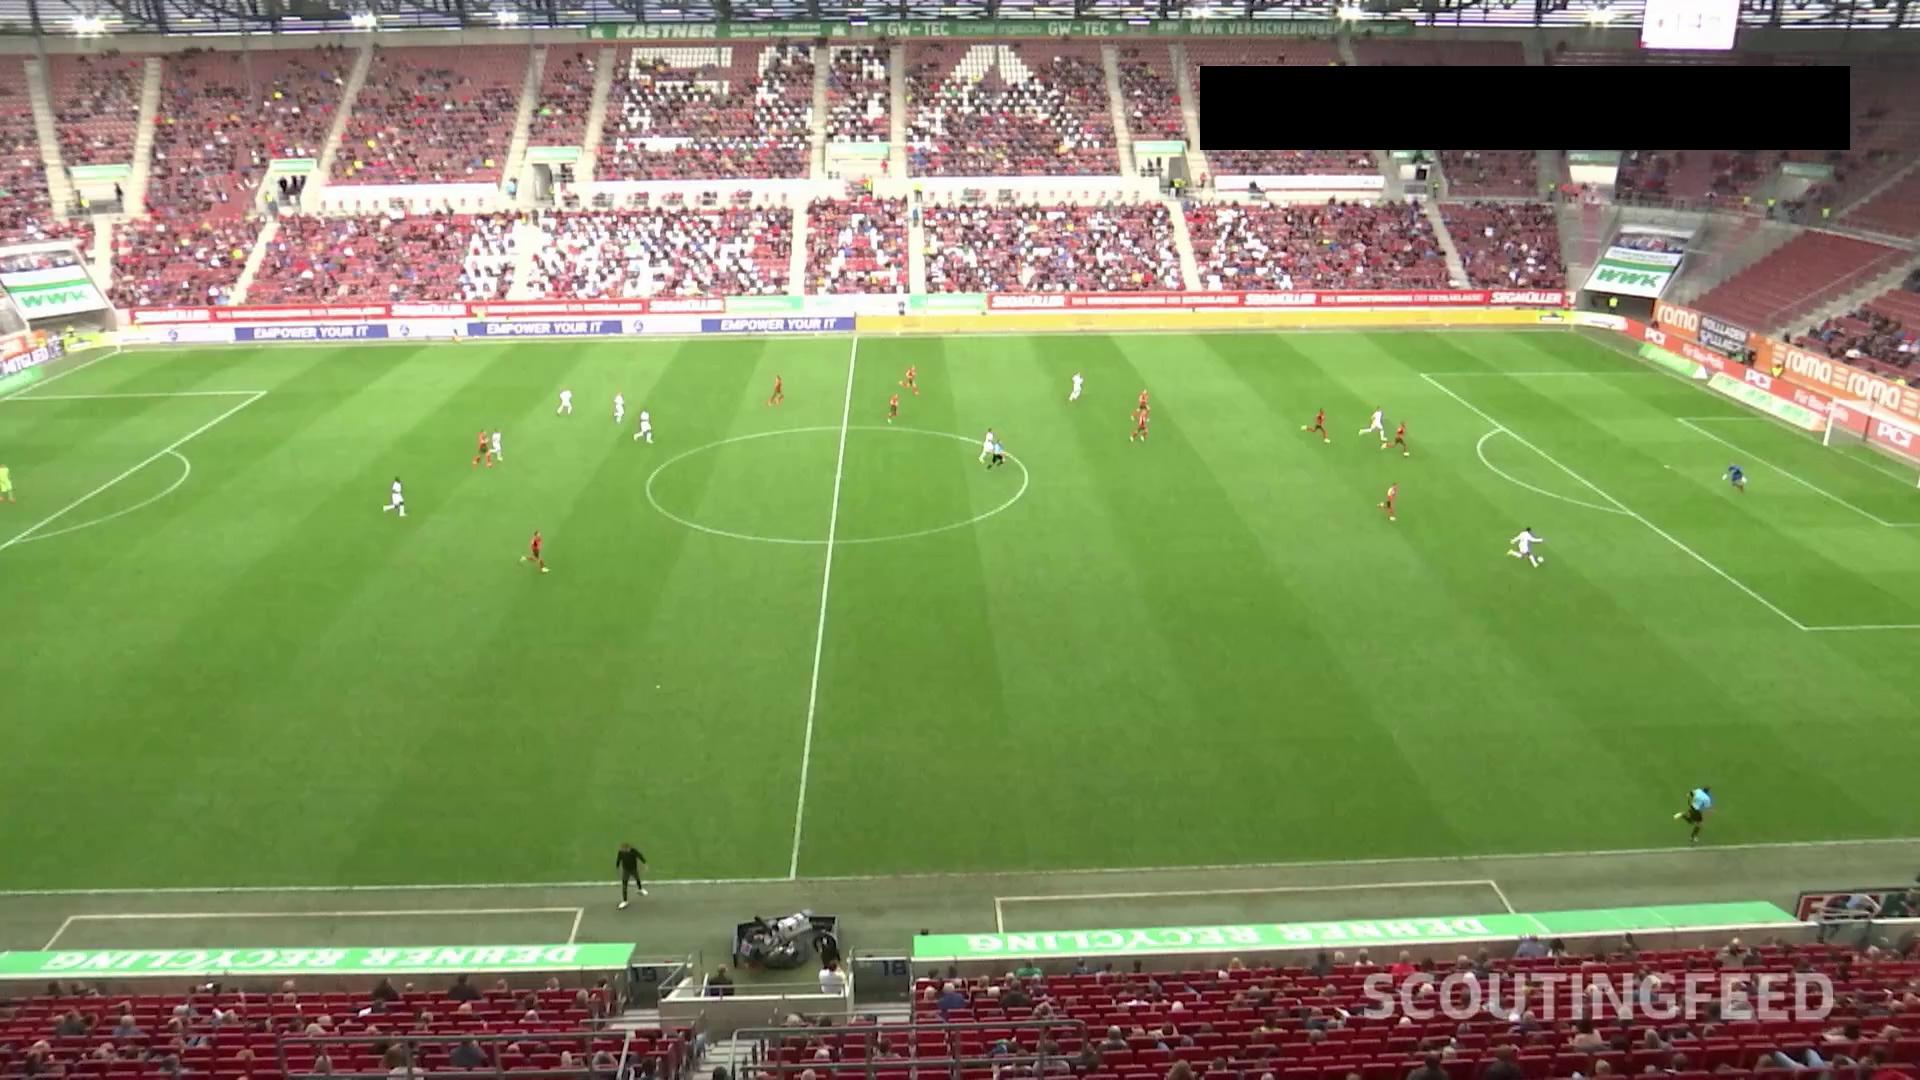Location-of-ball: (1528, 541, 1553, 568)
